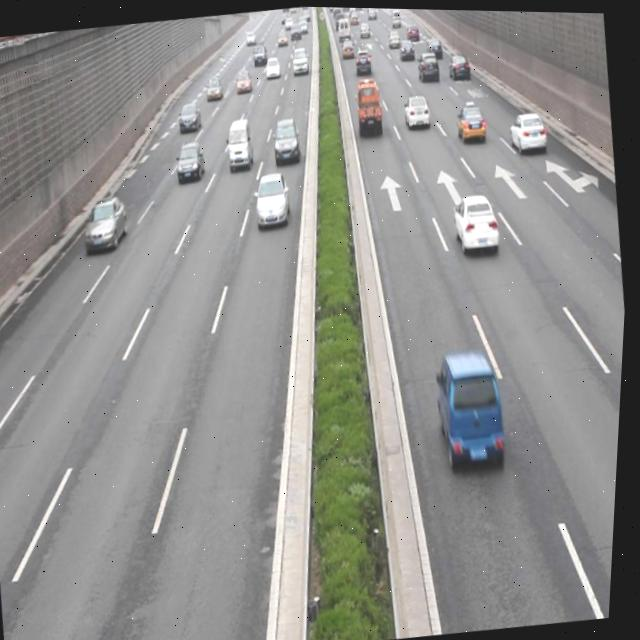bus: (354, 75, 384, 134)
car: (432, 345, 514, 472), (451, 188, 504, 256), (80, 192, 133, 251), (252, 169, 292, 227), (506, 107, 549, 156), (453, 98, 487, 143), (401, 90, 433, 131), (174, 139, 206, 180), (272, 116, 301, 161)
truck: (224, 115, 256, 167)
